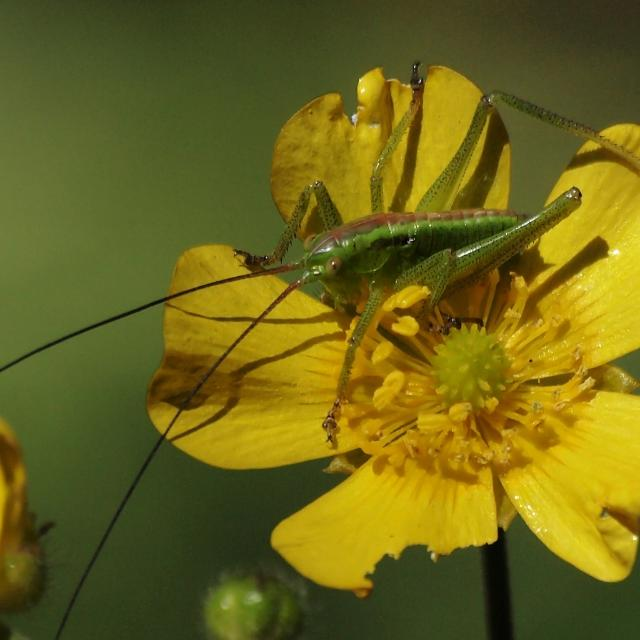Flower: (250, 299, 632, 583)
